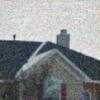chimneys: (56, 30, 70, 48)
